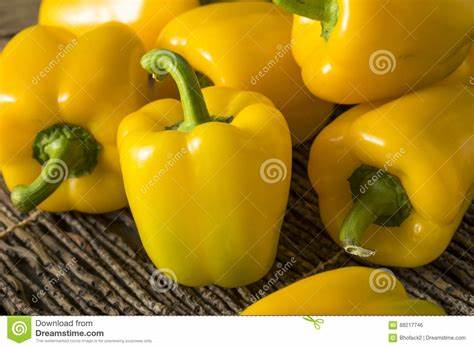Bell Pepper: (108, 35, 297, 297), (0, 21, 160, 230), (303, 80, 474, 269), (268, 0, 474, 105)
